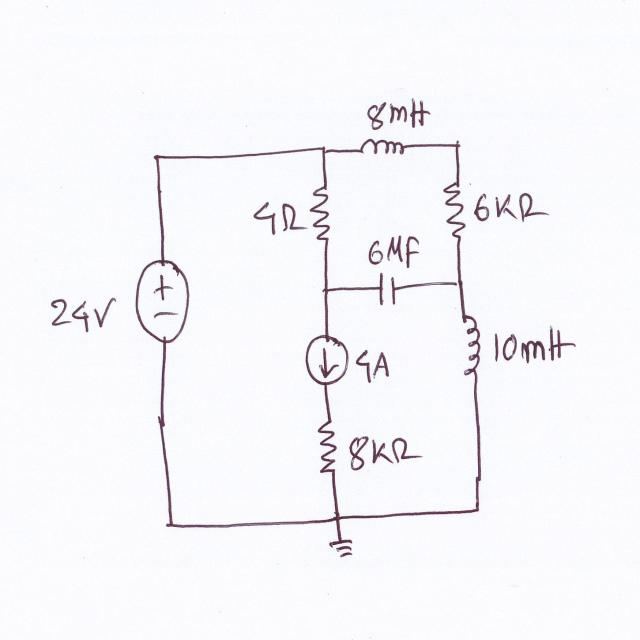capacitor: (375, 268, 401, 311)
current_source: (303, 328, 352, 387)
ground: (319, 536, 363, 568)
inductor: (458, 304, 488, 384), (355, 134, 417, 164)
resistor: (309, 180, 337, 252), (440, 174, 468, 242), (316, 414, 339, 483)
voltage_source: (133, 249, 195, 350)
